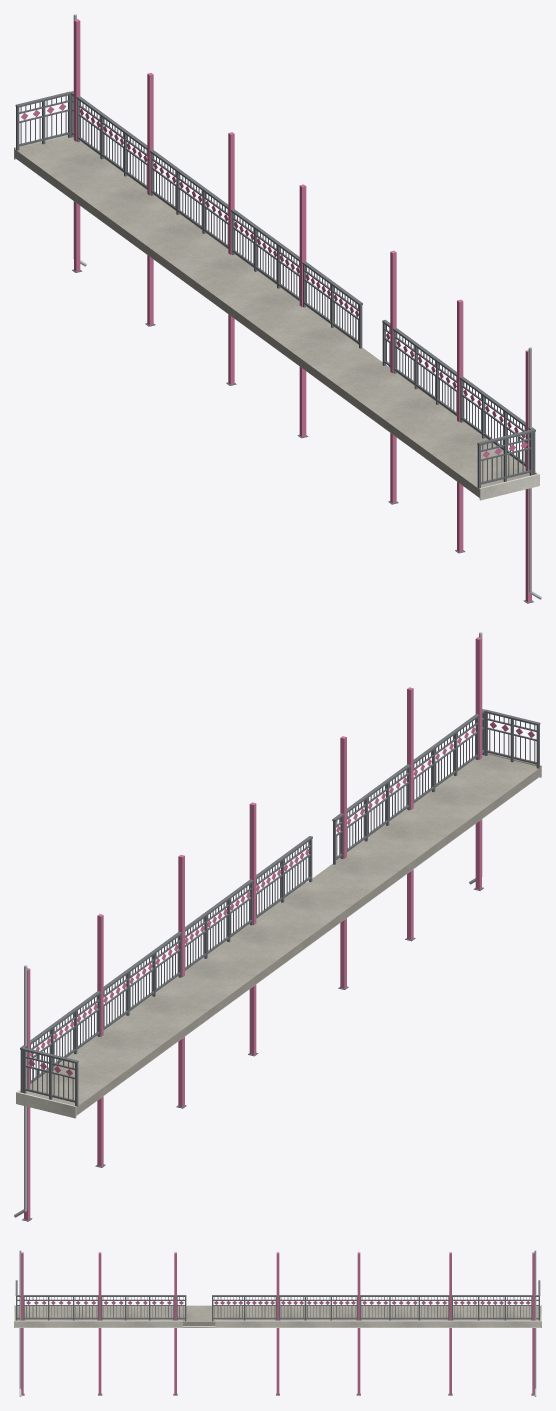
File: gallery.glb
The picture shows the model from 3 angles, top to bottom: view 1: azimuth 30°, elevation 25°; view 2: azimuth 150°, elevation 25°; view 3: azimuth 270°, elevation 25°; orthographic projection. The views are drawn at different scales.
Visible parts, largest first — view 1: gallery_conc_s, gallery_steel_d, gallery_accent, gallery_concrete, gallery_stucco_w, gallery_galv; view 2: gallery_conc_s, gallery_steel_d, gallery_accent, gallery_concrete, gallery_stucco_w, gallery_galv; view 3: gallery_steel_d, gallery_conc_s, gallery_accent, gallery_stucco_w, gallery_galv.
Boxes of the visible parts, bbox=[...] form: gallery_conc_s: bbox=[15, 136, 535, 489]; gallery_steel_d: bbox=[15, 91, 535, 603]; gallery_accent: bbox=[21, 19, 531, 602]; gallery_concrete: bbox=[15, 150, 479, 497]; gallery_stucco_w: bbox=[14, 135, 539, 500]; gallery_galv: bbox=[73, 14, 541, 599]; gallery_conc_s: bbox=[26, 754, 540, 1107]; gallery_steel_d: bbox=[20, 709, 540, 1221]; gallery_accent: bbox=[24, 637, 534, 1220]; gallery_concrete: bbox=[76, 768, 540, 1115]; gallery_stucco_w: bbox=[16, 753, 541, 1118]; gallery_galv: bbox=[14, 632, 482, 1217]; gallery_steel_d: bbox=[15, 1280, 540, 1395]; gallery_conc_s: bbox=[15, 1305, 540, 1321]; gallery_accent: bbox=[21, 1252, 534, 1394]; gallery_stucco_w: bbox=[14, 1305, 541, 1327]; gallery_galv: bbox=[19, 1250, 536, 1396].
Size of the model in its own units: 1.62 by 5.9 by 19.58.
Materials: 9 (4 with a texture image).
